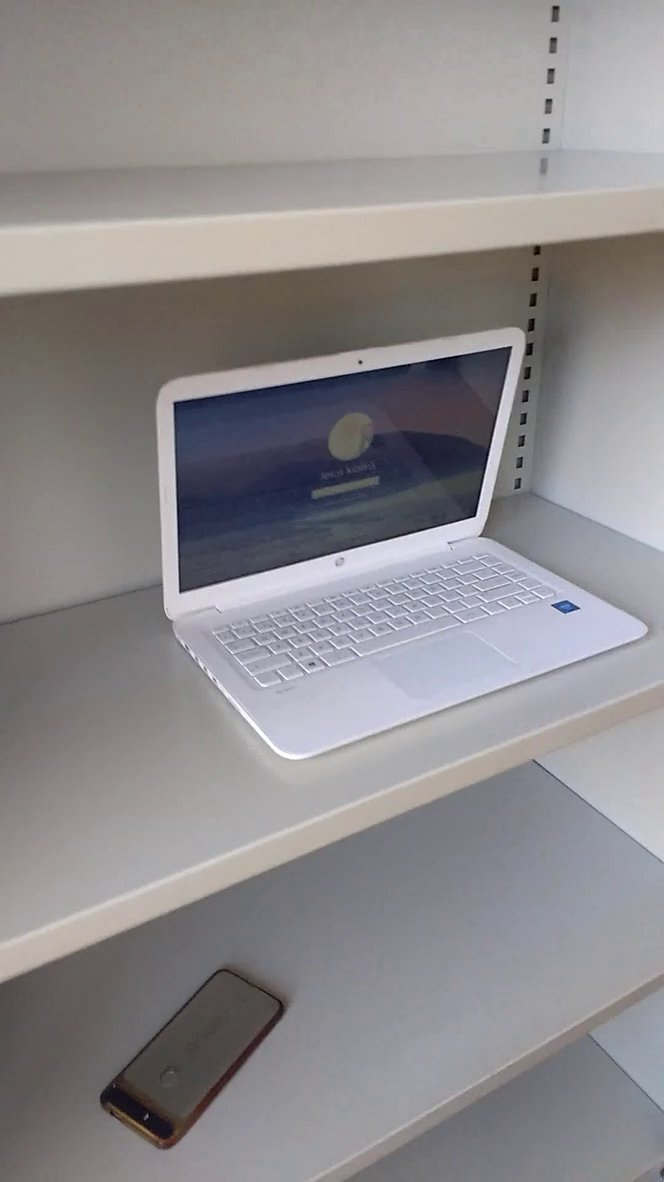laptop: (143, 313, 658, 781)
phone: (94, 956, 309, 1163)
